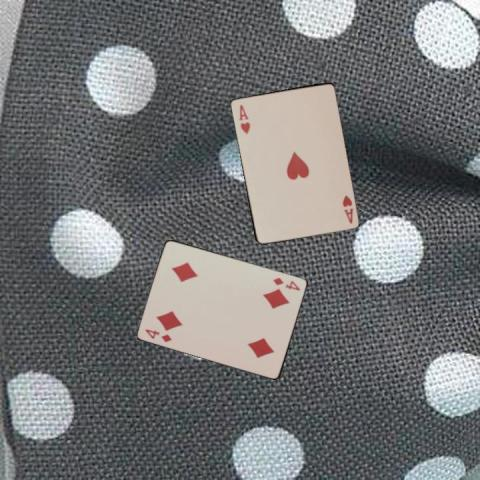4d: (142, 326, 173, 343), (271, 275, 301, 292)
Ah: (236, 102, 252, 136), (339, 192, 355, 225)
